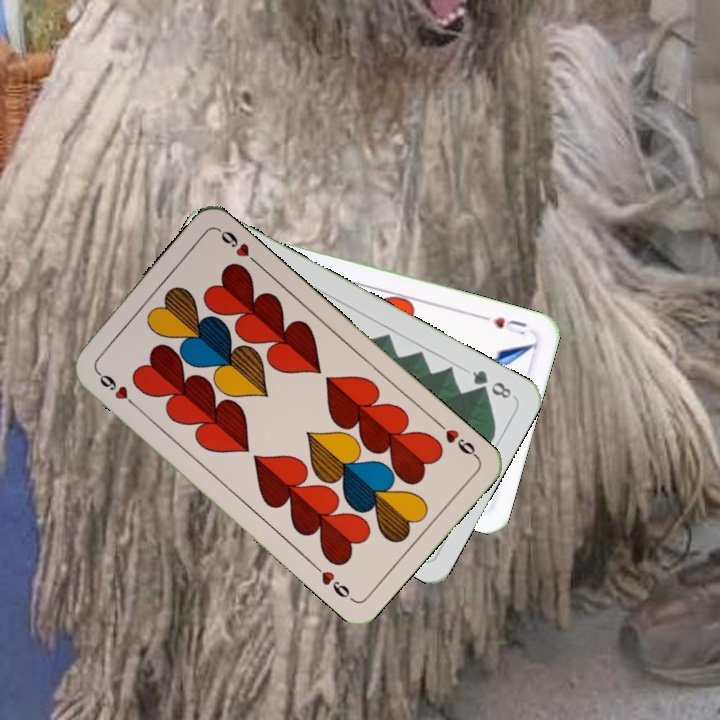G8: (468, 366, 514, 402)
H9: (433, 417, 481, 461), (92, 366, 140, 410)
HU: (477, 311, 529, 338)
